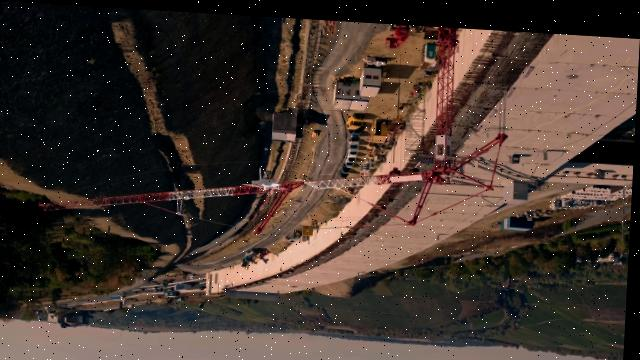drone: (241, 162, 290, 190)
